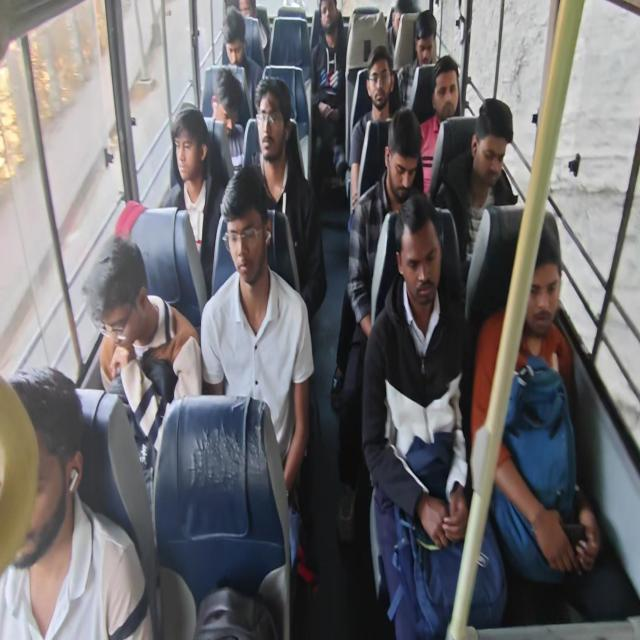person: (0, 371, 78, 552), (91, 264, 147, 351), (393, 230, 439, 317), (224, 193, 267, 285), (522, 246, 558, 336), (165, 124, 205, 180), (475, 111, 505, 185), (386, 137, 421, 198), (258, 99, 290, 164), (210, 77, 242, 134), (436, 61, 457, 125), (414, 22, 438, 71), (371, 62, 391, 107), (222, 32, 244, 68), (390, 0, 411, 33), (318, 0, 340, 31), (233, 0, 257, 22)
